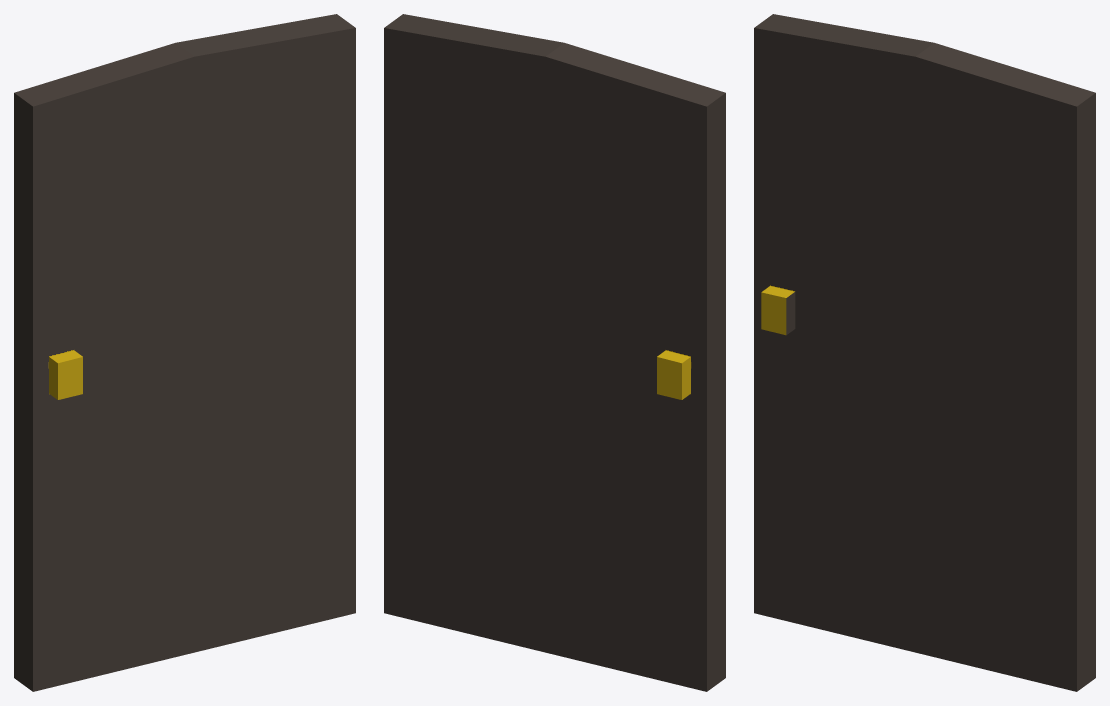
File: Door.obj
3 views of the same model, side by side, from view 1: azimuth 30°, elevation 25°; view 2: azimuth 150°, elevation 25°; view 3: azimuth 330°, elevation 25° (orthographic).
Parts seen in each view (by area): view 1: Door_Cube.003; view 2: Door_Cube.003; view 3: Door_Cube.003.
Part boxes in pixels (x1,y1,x2,y2): Door_Cube.003: [14, 14, 355, 691]; Door_Cube.003: [384, 14, 725, 691]; Door_Cube.003: [754, 14, 1095, 691].
Bounding box in the file's own units: 1.15 × 2.02 × 0.2259.
